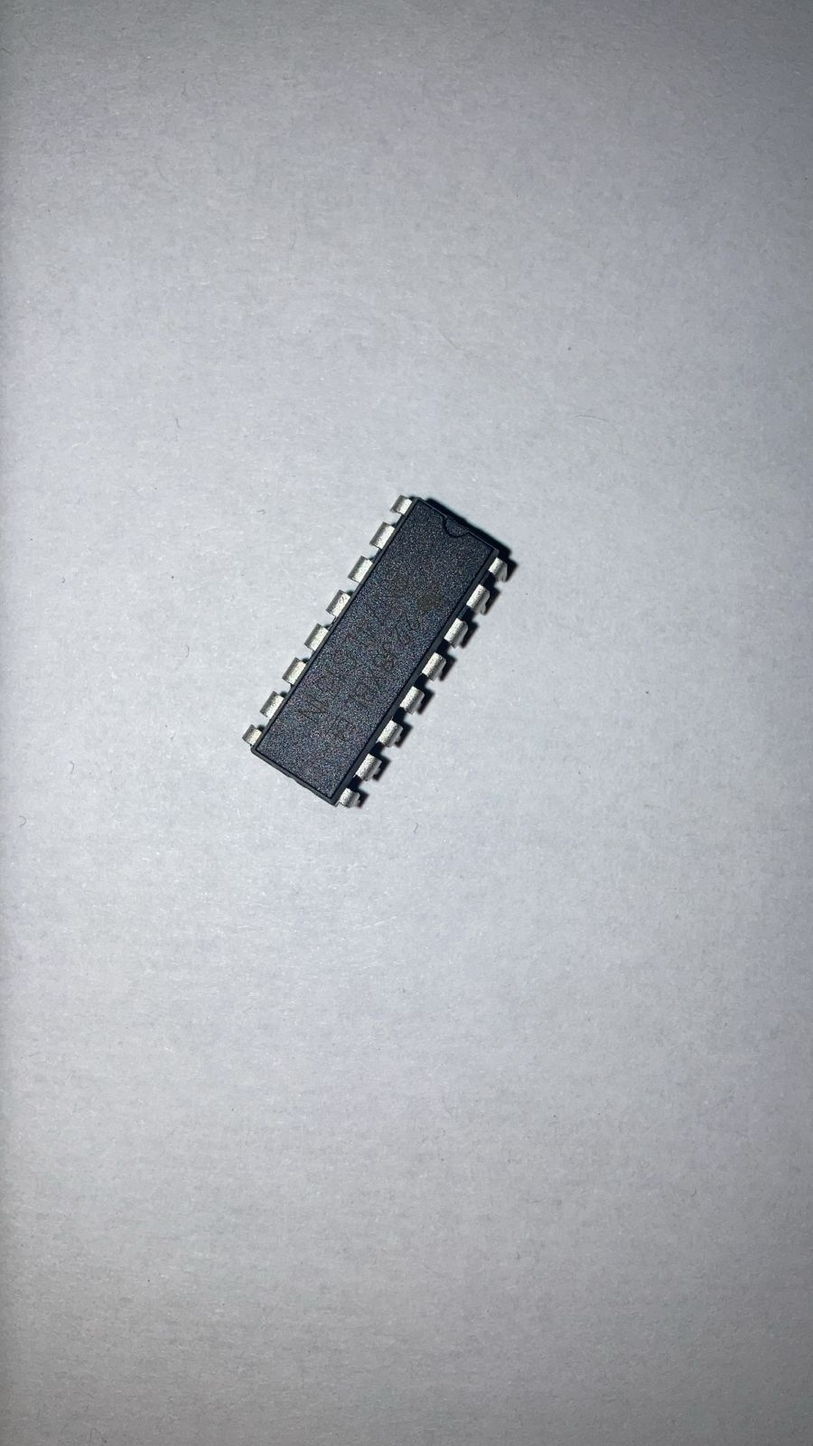IC: (235, 483, 523, 819)
notch: (440, 511, 473, 541)
